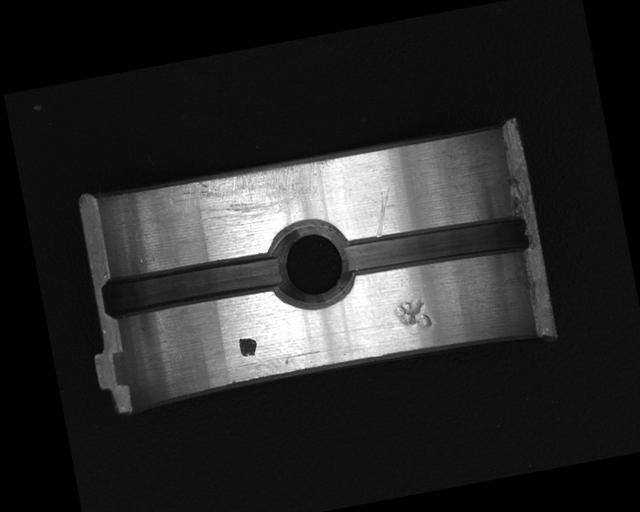blot: (236, 335, 259, 358)
bruise: (392, 297, 433, 333)
gap: (338, 206, 532, 288), (99, 247, 283, 322)
hole: (264, 215, 360, 314)
nick: (365, 179, 399, 238)
scratch: (164, 153, 340, 240)
